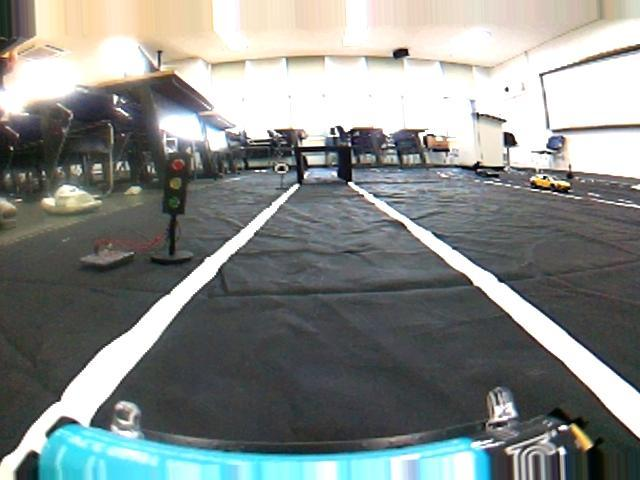green_light: (162, 151, 191, 216)
sign_tunnel: (275, 162, 287, 176)
straight: (10, 190, 636, 465)
